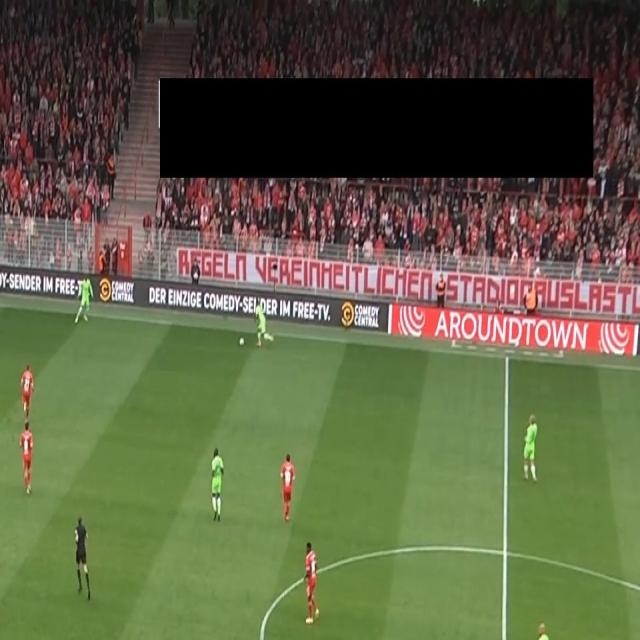ball: (238, 334, 245, 348)
